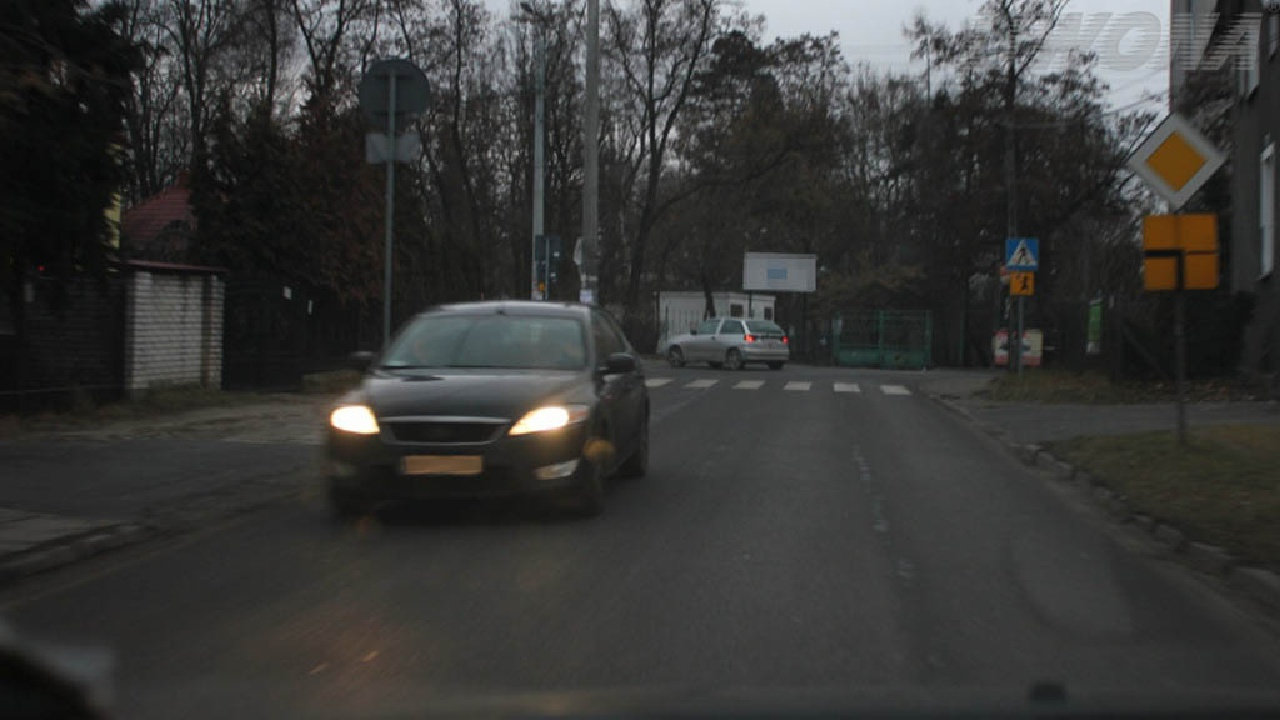D1: (1126, 113, 1229, 211)
